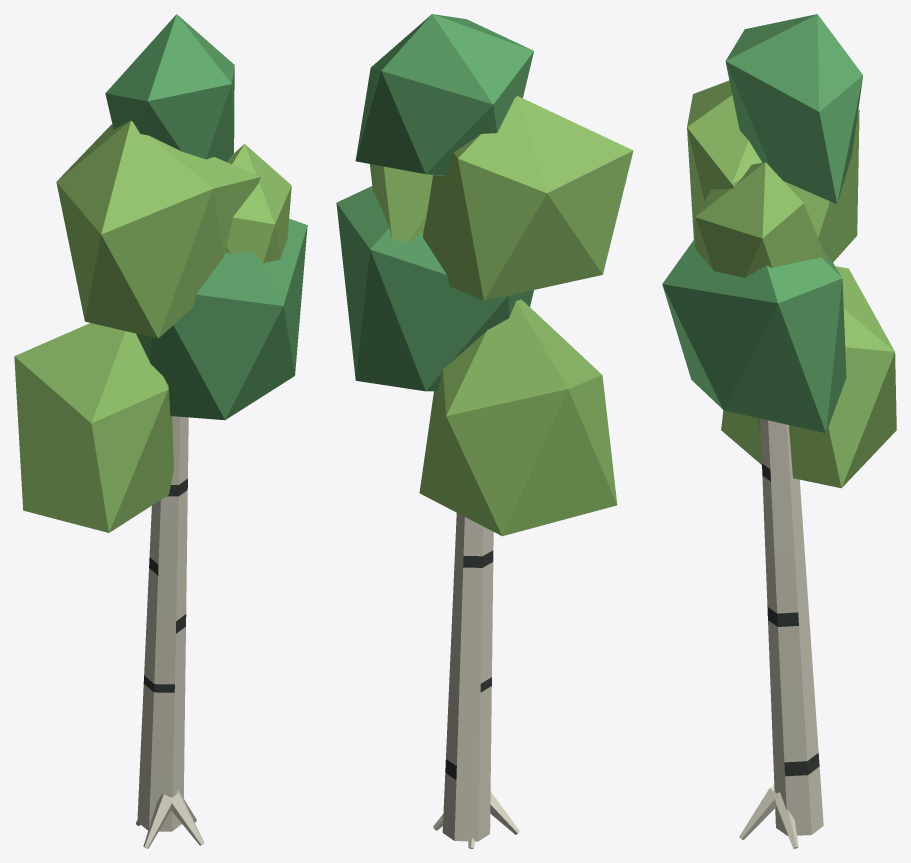
The model's file is sm_env_forest_birch.glb.
The picture shows the model from 3 angles, left to right: view 1: azimuth 30°, elevation 25°; view 2: azimuth 150°, elevation 25°; view 3: azimuth 270°, elevation 25°; orthographic projection. The views are drawn at different scales.
Parts seen in each view (by area): view 1: BirchLeaves.002, BirchLeaves, BirchLeaves.001, Trunk, BirchLeaves.003, BirchLeaves.004, RootFlare.002, RootFlare.003; view 2: BirchLeaves, BirchLeaves.002, BirchLeaves.001, BirchLeaves.003, Trunk, BirchLeaves.004; view 3: BirchLeaves.001, BirchLeaves.003, Trunk, BirchLeaves, BirchLeaves.004, BirchLeaves.002, RootFlare.003, RootFlare.
Part boxes in pixels (box(x1,y1,x2,y2)): BirchLeaves.002: box(56, 120, 260, 338); BirchLeaves: box(14, 323, 173, 532); BirchLeaves.001: box(136, 218, 307, 420); Trunk: box(137, 416, 188, 831); BirchLeaves.003: box(105, 14, 234, 161); BirchLeaves.004: box(226, 144, 291, 263); RootFlare.002: box(143, 794, 173, 848); RootFlare.003: box(169, 793, 204, 845); BirchLeaves: box(419, 299, 617, 536); BirchLeaves.002: box(423, 96, 633, 300); BirchLeaves.001: box(336, 186, 533, 391); BirchLeaves.003: box(355, 14, 533, 176); Trunk: box(442, 513, 493, 841); BirchLeaves.004: box(370, 164, 432, 241); BirchLeaves.001: box(662, 238, 846, 433); BirchLeaves.003: box(725, 14, 862, 203); Trunk: box(760, 418, 823, 835); BirchLeaves: box(721, 266, 896, 488); BirchLeaves.004: box(694, 162, 828, 277); BirchLeaves.002: box(687, 80, 859, 262); RootFlare.003: box(739, 788, 777, 840); RootFlare: box(773, 792, 798, 848).
Size of the model in its own units: 2.79 by 7.67 by 1.96.
